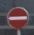No entry: (6, 5, 29, 30)
